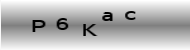6: (55, 17, 69, 31)
K: (81, 23, 96, 37)
P: (31, 19, 46, 32)
c: (124, 10, 137, 21)
s: (101, 11, 114, 22)
